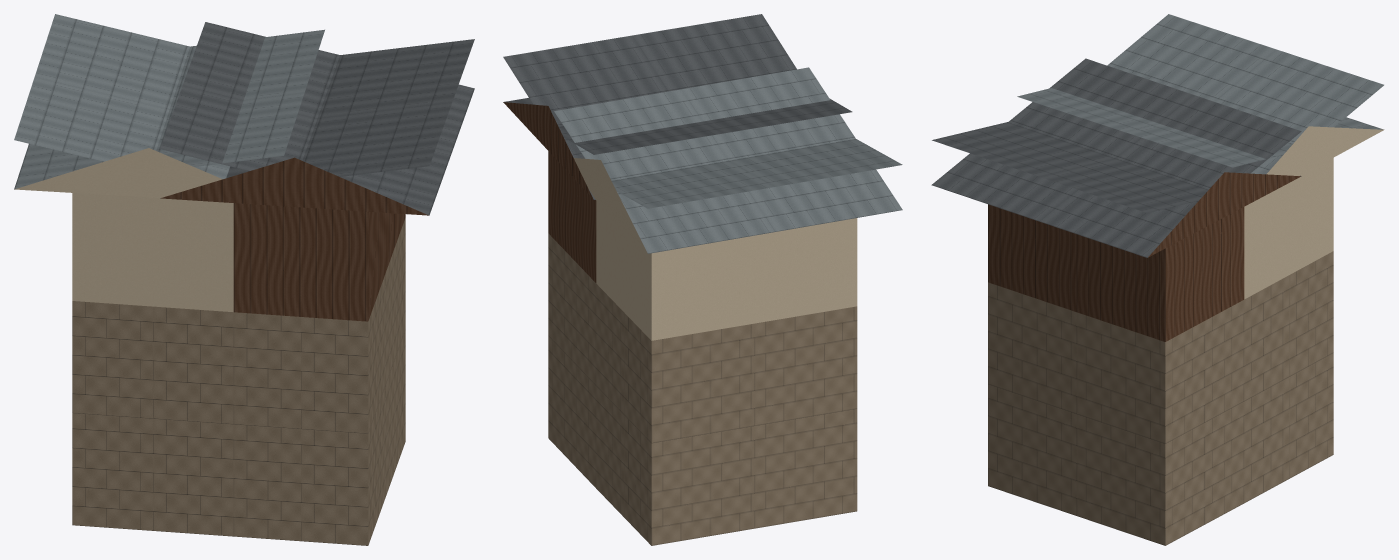
File: bld_c14_42_469.gltf
3 renders of one model, left to right at view 1: azimuth 30°, elevation 25°; view 2: azimuth 150°, elevation 25°; view 3: azimuth 270°, elevation 25°, orthographic. The views are drawn at different scales.
Visible parts, largest first — view 1: bld_c14_42_469; view 2: bld_c14_42_469; view 3: bld_c14_42_469.
Boxes of the visible parts, x1,y1,x2,y2 form: bld_c14_42_469: (14, 14, 474, 545); bld_c14_42_469: (503, 14, 902, 545); bld_c14_42_469: (931, 14, 1384, 545).
Size of the model in its own units: 9.51 by 8 by 9.15.
Materials: 7 (7 with a texture image).
